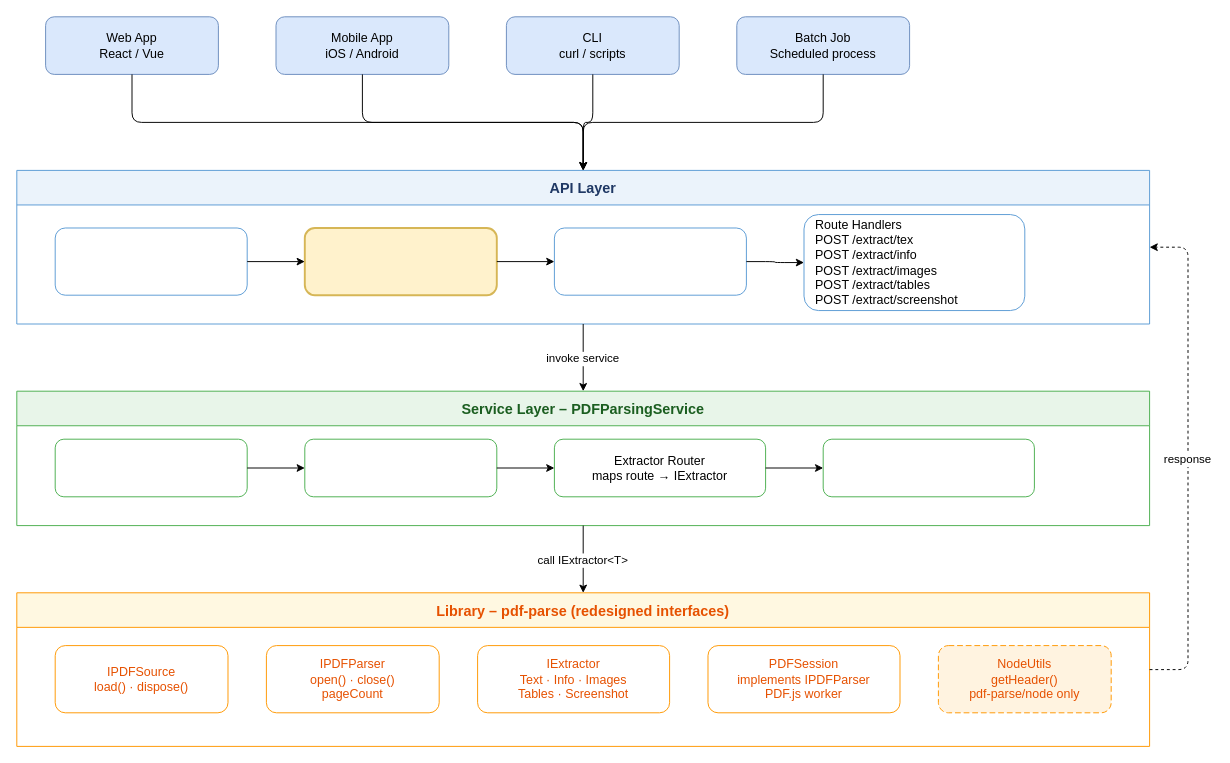
Some shapes in this 1230 by 763 pixel diagram are drawn without their labels. The centre of each missing label's shape, as x and y in pixels:
"File Upload Handler multipart/form-data size validation" goes at point (400, 261).
"HTTP Server Express / Fastify" goes at point (150, 261).
"Request Validation schema · input mode page range check" goes at point (649, 261).
"Response Formatter serialize to JSON envelope" goes at point (928, 467).
"Session Manager open · close lifecycle" goes at point (400, 467).
"Source Factory URL · Buffer · Base64" goes at point (150, 467).
